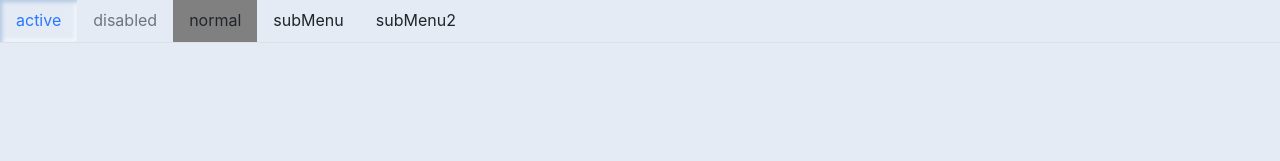
Scenario: Menu › should show dropdown when hover on subMenu
Expected: the text "dropdown1" is not shown
Expected: the text "dropdown2" is not shown
# test show drop dow
Hover over the text "subMenu".
mouse_move(309, 20)  # box [273,8,344,32]
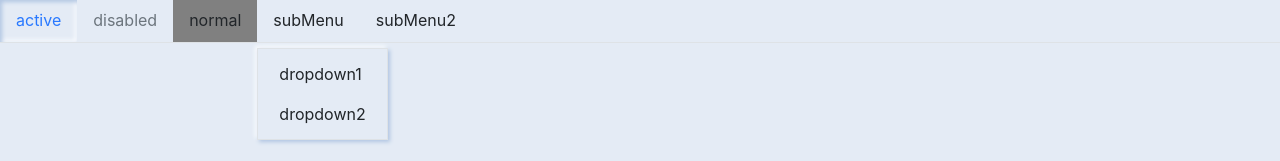
Expected: the list item "dropdown1" is shown
Expected: the list item "dropdown2" is shown, [279,104,366,124]
# test click on dropdown item
Click the list item "dropdown1".
click(321, 74)  # box [279,64,362,84]
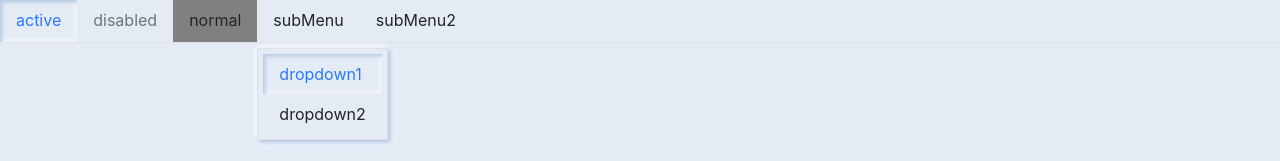
# test hide dropdown
Move the pointer off the text "subMenu", box [273,8,344,32]
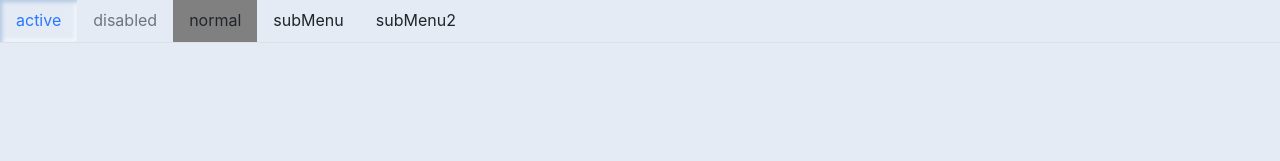
Expected: the list item "dropdown1" is gone
Expected: the list item "dropdown2" is gone
